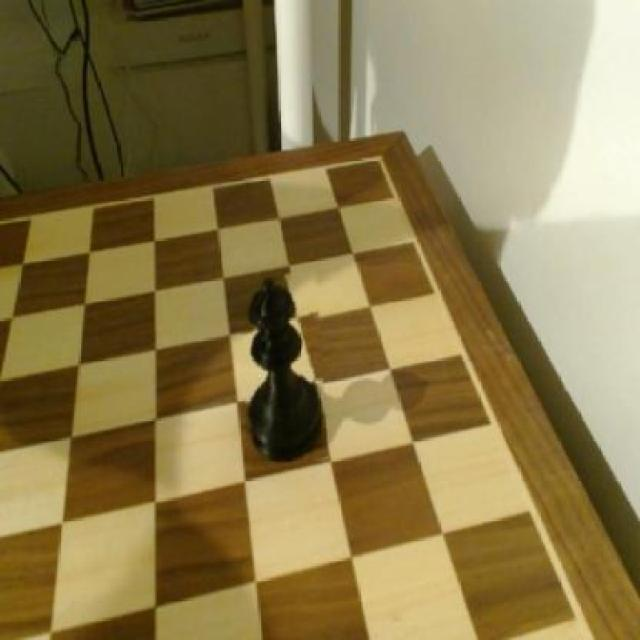black-pawn: (241, 274, 327, 467)
